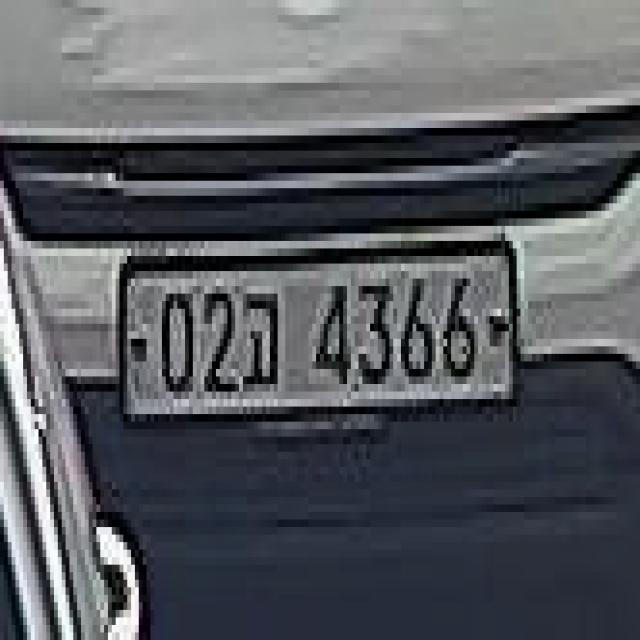illegal_plate: (113, 230, 527, 440)
